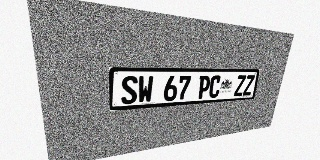6: (163, 76, 178, 101)
7: (177, 75, 191, 100)
C: (208, 75, 222, 98)
P: (197, 75, 211, 99)
S: (121, 76, 138, 104)
W: (138, 76, 154, 103)
Z: (234, 75, 246, 96), (243, 75, 255, 96)
